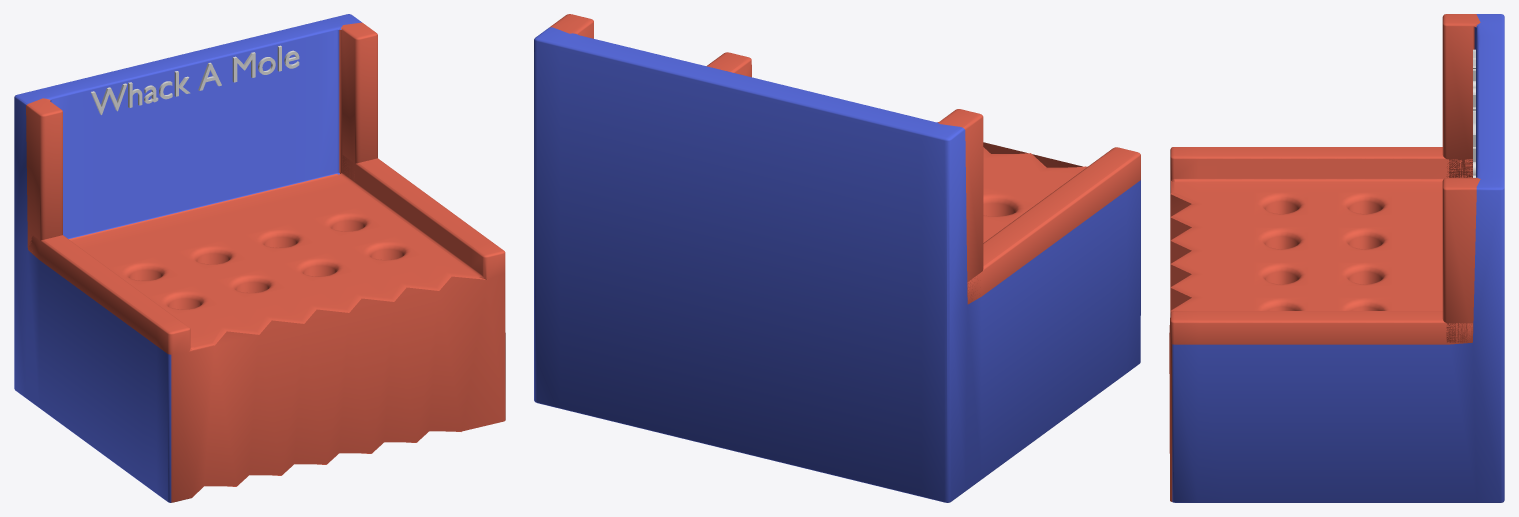
The model's file is whak_a_mole_sans_taupe.fbx.
3 views of the same model, side by side, from view 1: azimuth 30°, elevation 25°; view 2: azimuth 150°, elevation 25°; view 3: azimuth 270°, elevation 25° (orthographic). The views are drawn at different scales.
Visible parts, largest first — view 1: Cube, Texte; view 2: Cube; view 3: Cube, Texte.
Part boxes in pixels (bbox=[...]): Cube: bbox=[14, 14, 505, 502]; Texte: bbox=[91, 45, 299, 114]; Cube: bbox=[534, 14, 1140, 502]; Cube: bbox=[1169, 14, 1504, 502]; Texte: bbox=[1473, 49, 1475, 177].
Bounding box in the file's own units: 582 × 469 × 487.
